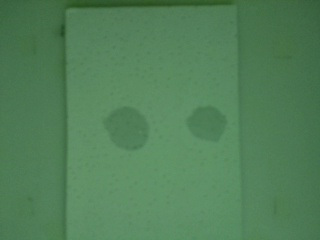Water_detected: (105, 112, 139, 145), (199, 112, 222, 141)
